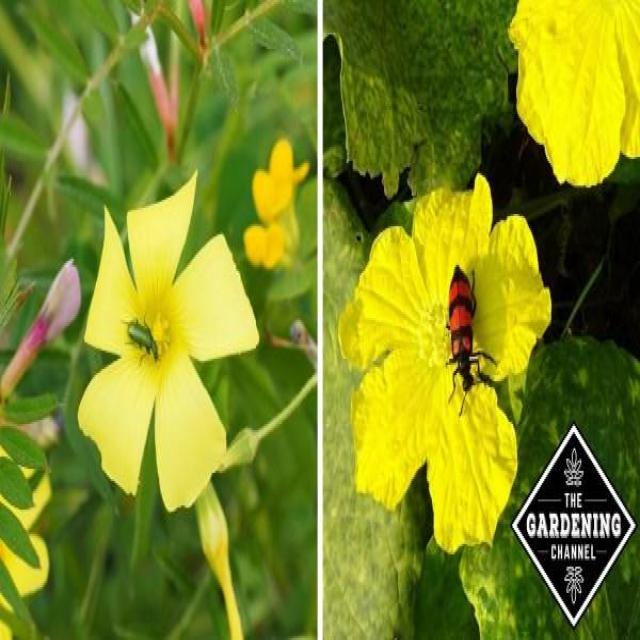BlisterBeetle-Adult-: (442, 254, 498, 423), (119, 302, 163, 370)
